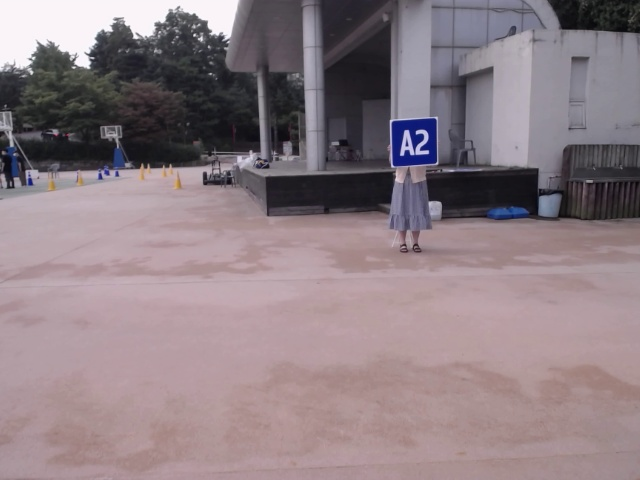delivery_a2: (390, 116, 438, 168)
